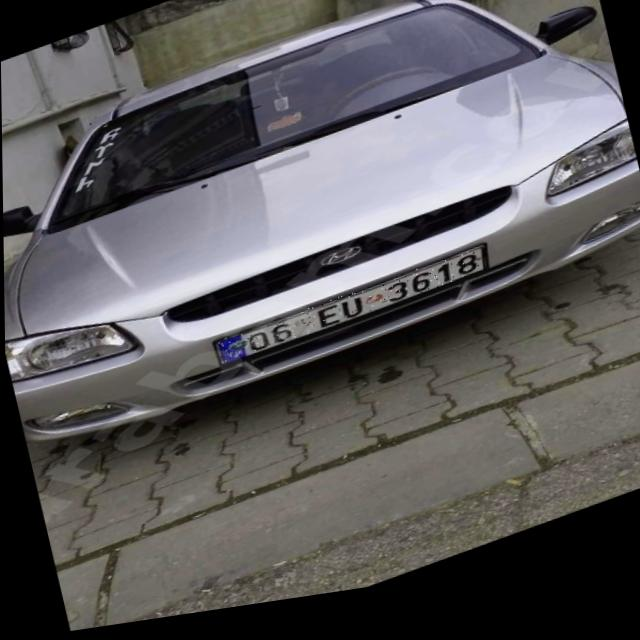license_plate: (215, 259, 485, 372)
